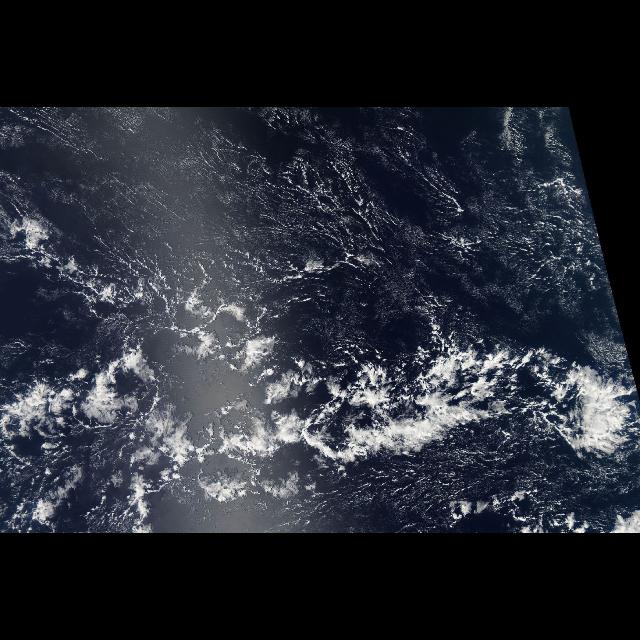Fish: (154, 328, 626, 508)
Sugar: (68, 118, 610, 292)
